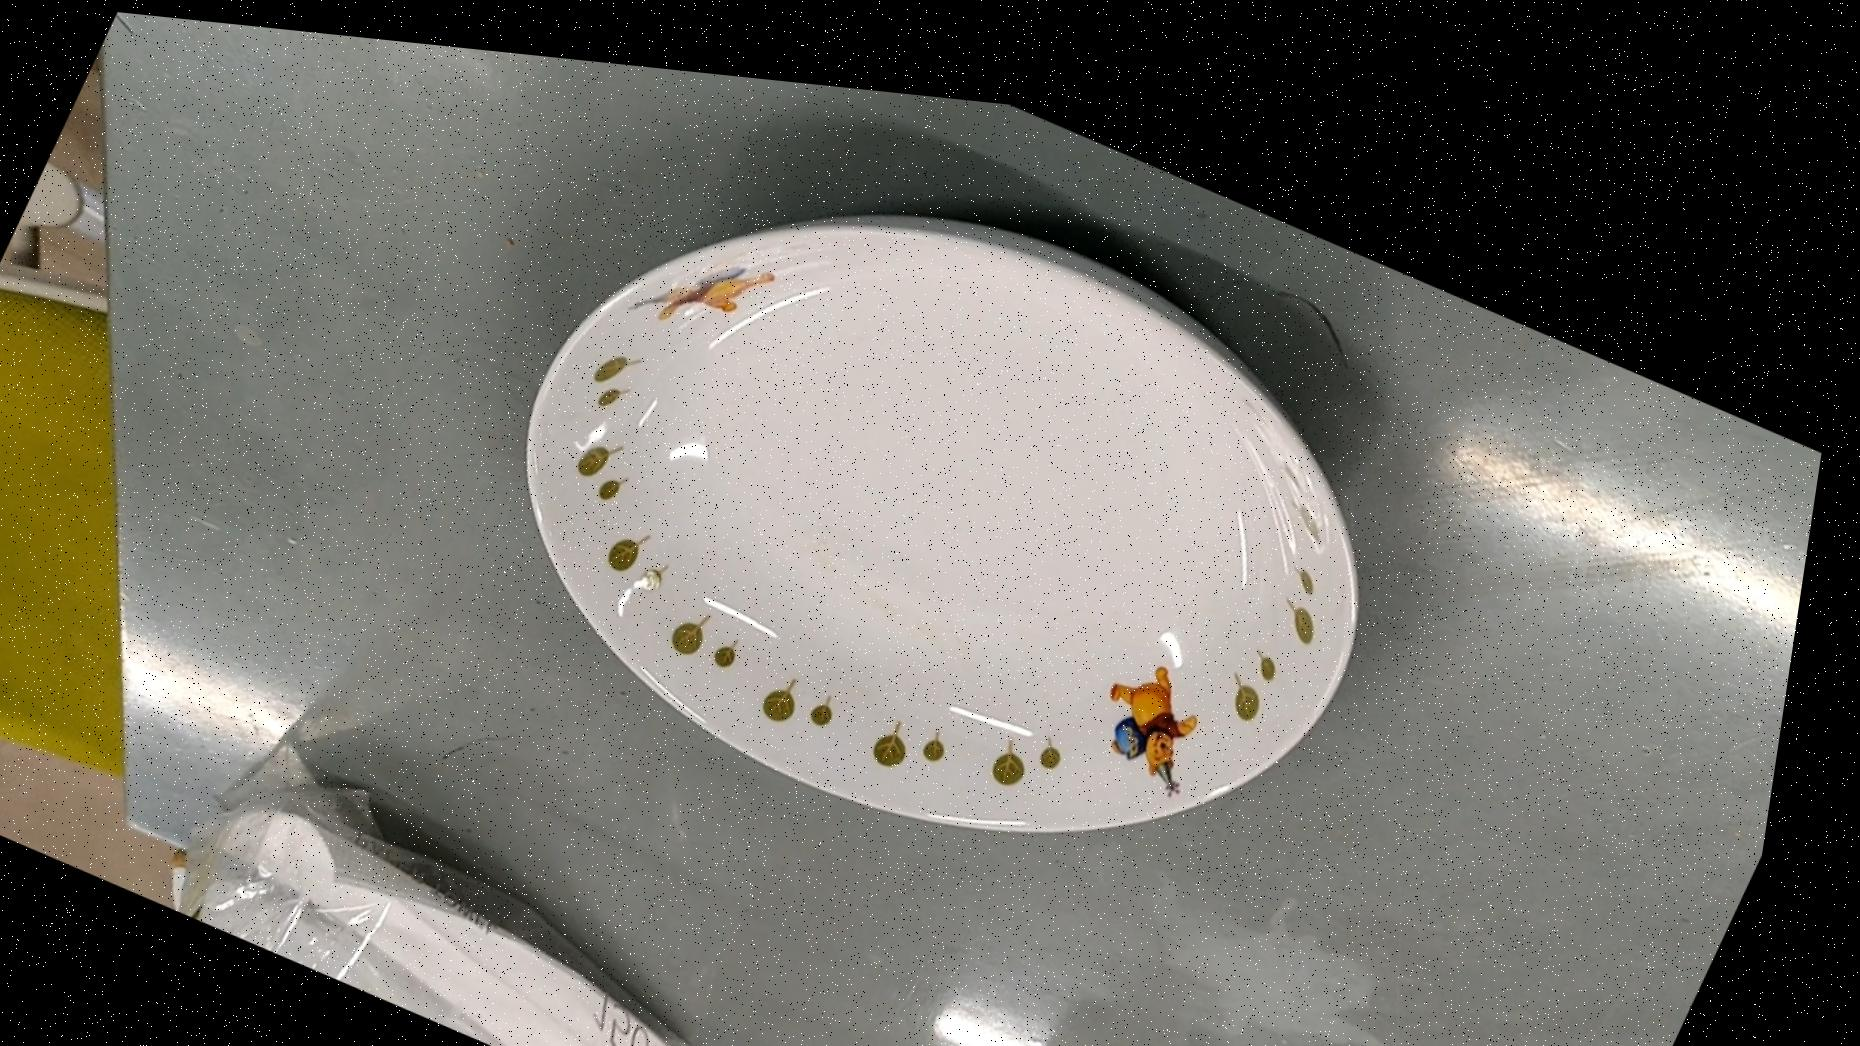plate: (419, 56, 1502, 945)
